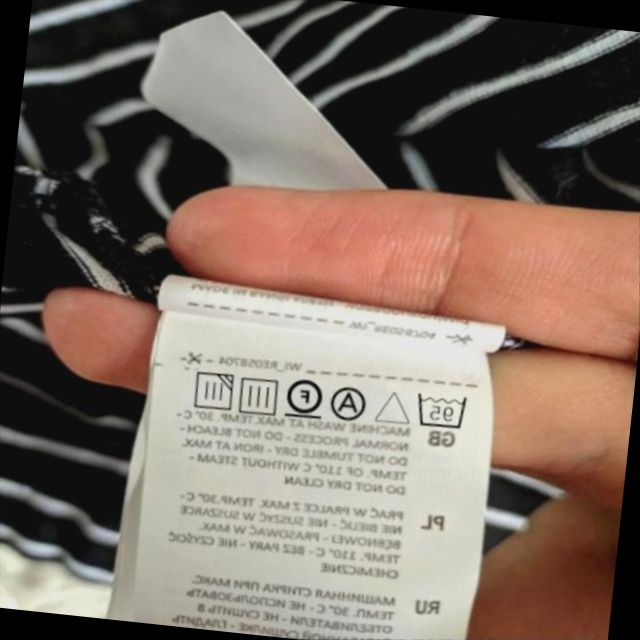95C: (408, 383, 474, 437)
bleach: (371, 381, 416, 432)
drip_dry: (231, 369, 286, 422)
drip_dry_in_shade: (183, 364, 239, 419)
dry_clean: (326, 380, 373, 426)
dry_clean_petrol_only: (279, 369, 329, 425)
